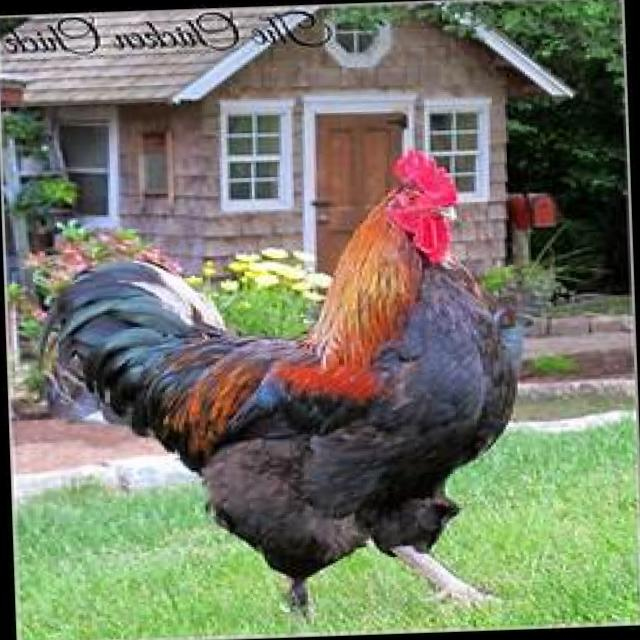chicken: (62, 151, 516, 621)
